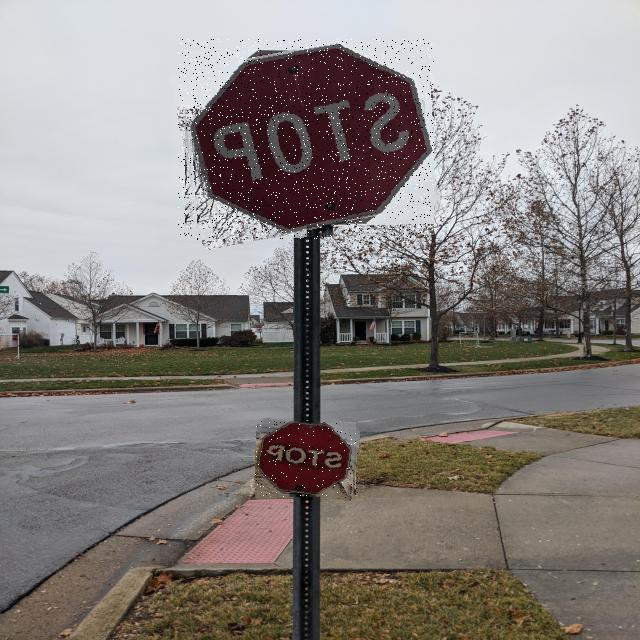stop: (178, 39, 434, 240), (255, 421, 358, 498)
